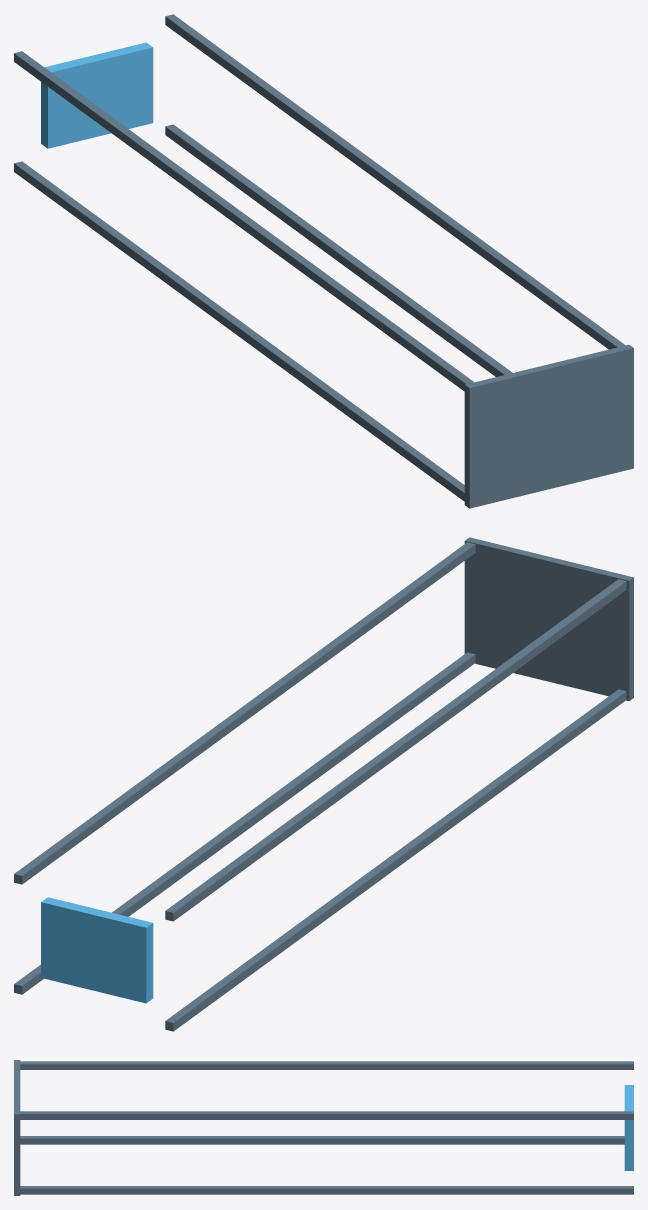
The model's file is poc-lifter.gltf.
The picture shows the model from 3 angles, top to bottom: view 1: azimuth 30°, elevation 25°; view 2: azimuth 150°, elevation 25°; view 3: azimuth 270°, elevation 25°; orthographic projection. The views are drawn at different scales.
Visible parts, largest first — view 1: poc-frame-top, poc-platform-deck, poc-frame-left-back, poc-frame-right-back, poc-frame-left-front, poc-frame-right-front; view 2: poc-frame-top, poc-platform-deck, poc-frame-left-front, poc-frame-right-back, poc-frame-left-back, poc-frame-right-front; view 3: poc-frame-right-front, poc-frame-left-back, poc-frame-right-back, poc-frame-left-front, poc-frame-top, poc-platform-deck.
Part boxes in pixels (bbox=[...]): poc-frame-top: bbox=[464, 344, 633, 508]; poc-platform-deck: bbox=[41, 42, 153, 148]; poc-frame-left-back: bbox=[14, 51, 473, 391]; poc-frame-right-back: bbox=[165, 14, 625, 349]; poc-frame-left-front: bbox=[14, 161, 464, 501]; poc-frame-right-front: bbox=[165, 124, 512, 376]; poc-frame-top: bbox=[464, 537, 633, 701]; poc-platform-deck: bbox=[41, 897, 153, 1003]; poc-frame-left-front: bbox=[165, 689, 626, 1031]; poc-frame-right-back: bbox=[14, 542, 475, 884]; poc-frame-left-back: bbox=[165, 579, 626, 921]; poc-frame-right-front: bbox=[14, 652, 475, 994]; poc-frame-right-front: bbox=[20, 1186, 633, 1194]; poc-frame-left-back: bbox=[20, 1061, 633, 1069]; poc-frame-right-back: bbox=[20, 1111, 633, 1119]; poc-frame-left-front: bbox=[20, 1136, 624, 1144]; poc-frame-top: bbox=[14, 1060, 20, 1195]; poc-platform-deck: bbox=[624, 1085, 633, 1170].
Bounding box in the file's own units: 5 × 3.5 × 24.12.
